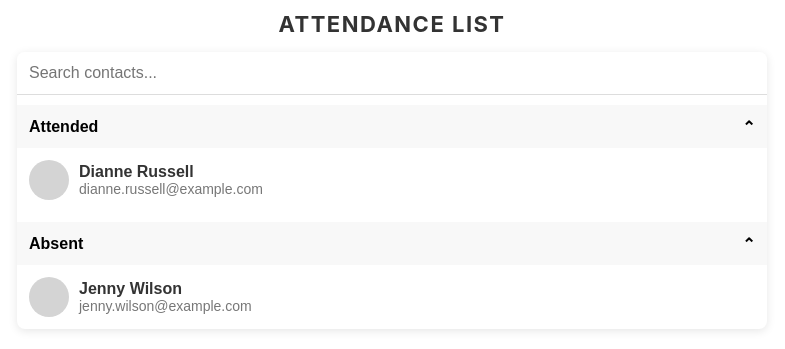
SearchComponent › collapses and expands Absent section when clicked
Click the button "Absent ⌄": (56, 243) [17,222,767,265]
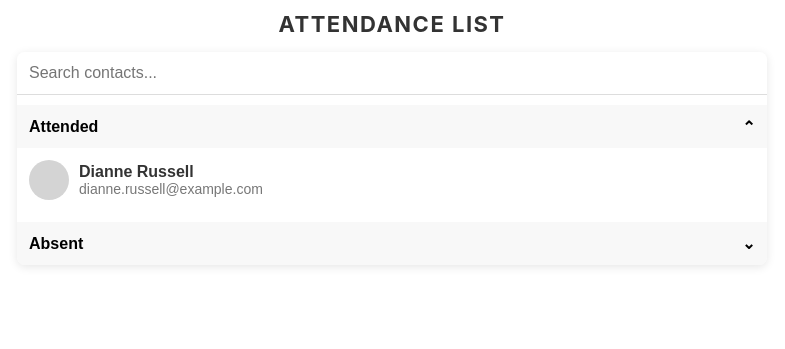
Now the text "Jenny Wilson" is gone
Click the button "Absent ⌄": (56, 243) [17,222,767,265]
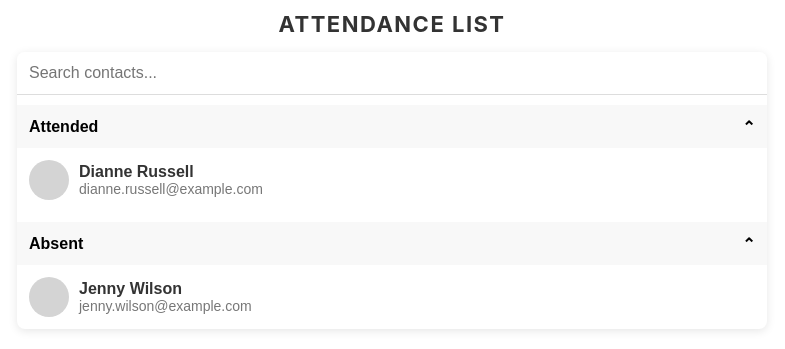
Now the text "Jenny Wilson" is shown, box [79,280,182,297]
